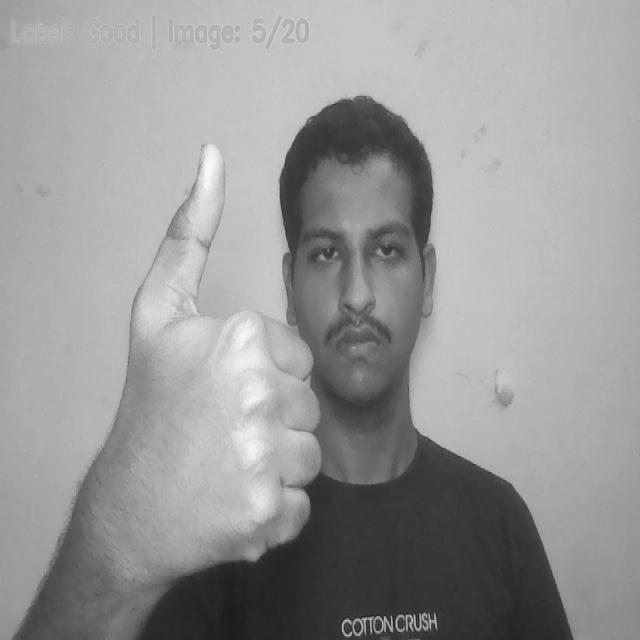Good: (124, 137, 322, 561)
